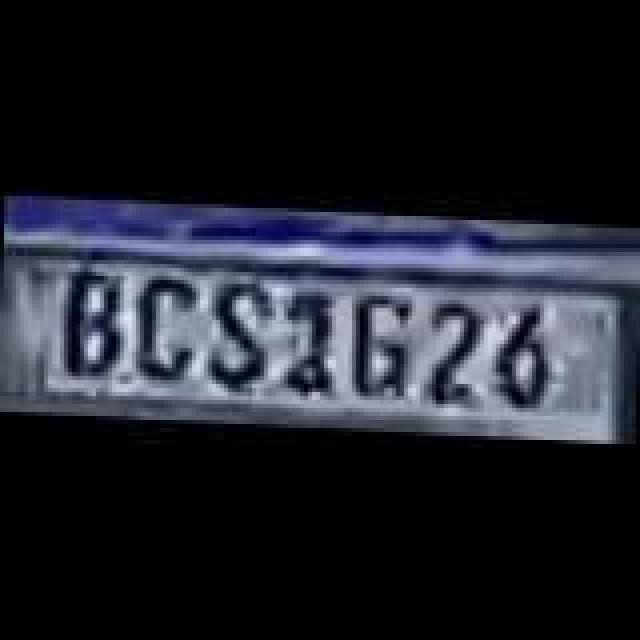1: (284, 282, 332, 398)
2: (426, 298, 486, 414)
6: (492, 300, 556, 412)
B: (64, 266, 128, 382)
C: (134, 278, 202, 386)
G: (350, 290, 418, 406)
S: (206, 274, 274, 390)
